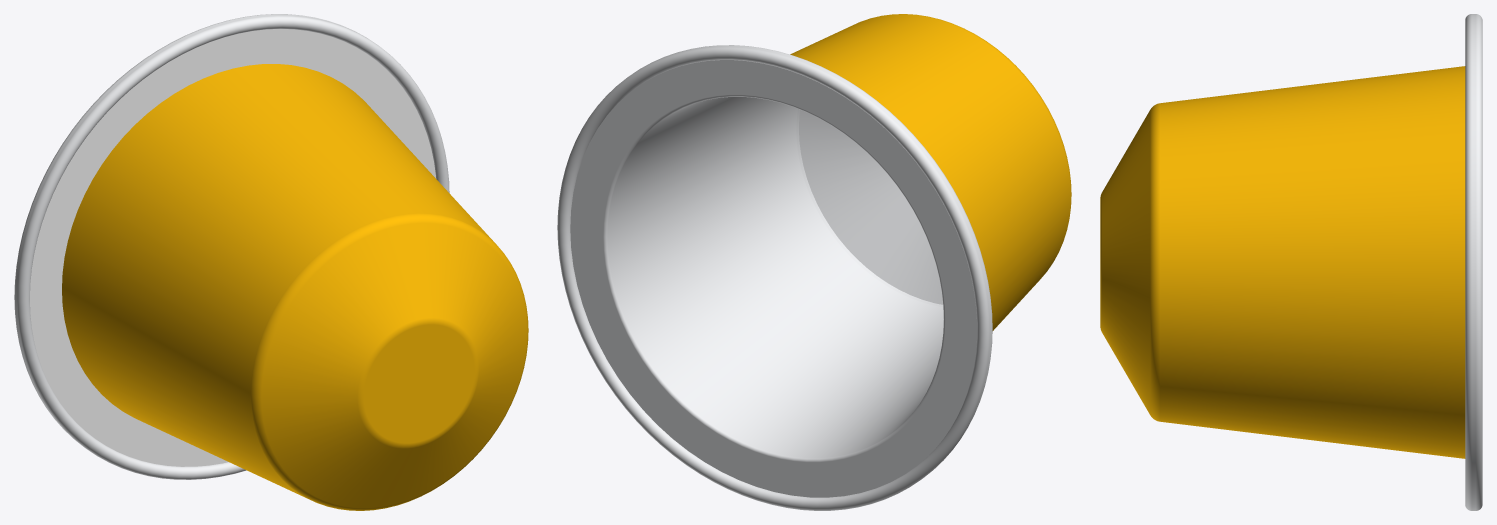
Rendered from Gold Open.glb.
3 renders of one model, left to right at view 1: azimuth 30°, elevation 25°; view 2: azimuth 150°, elevation 25°; view 3: azimuth 270°, elevation 25°, orthographic.
Visible parts, largest first — view 1: empty_3; view 2: empty_3; view 3: empty_3.
Boxes of the visible parts, x1=… form: empty_3: x1=14, y1=14, x2=528, y2=510; empty_3: x1=557, y1=14, x2=1071, y2=510; empty_3: x1=1100, y1=14, x2=1482, y2=510.
Bounding box in the file's own units: 0.037 × 0.037 × 0.0284.
